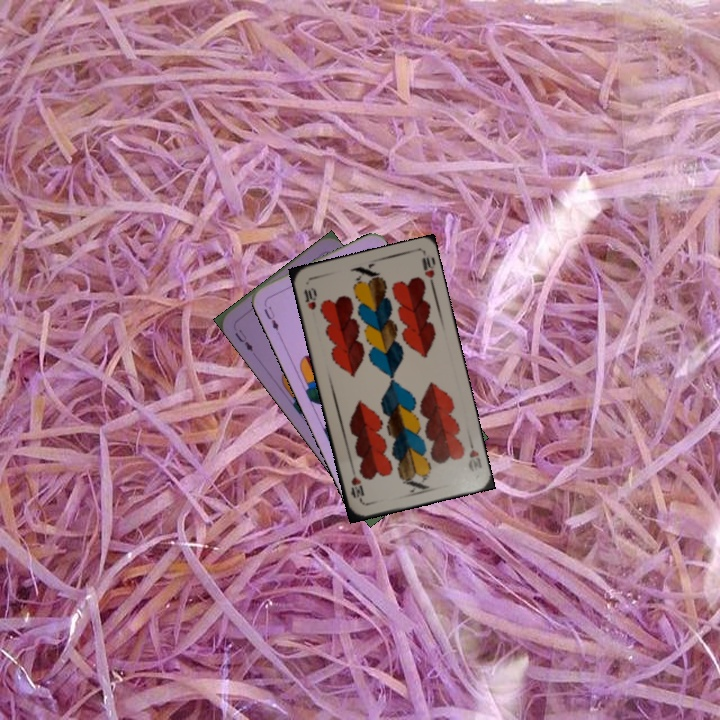EU: (260, 298, 282, 337), (230, 325, 256, 354)
H10: (464, 435, 485, 474), (300, 283, 319, 312)
